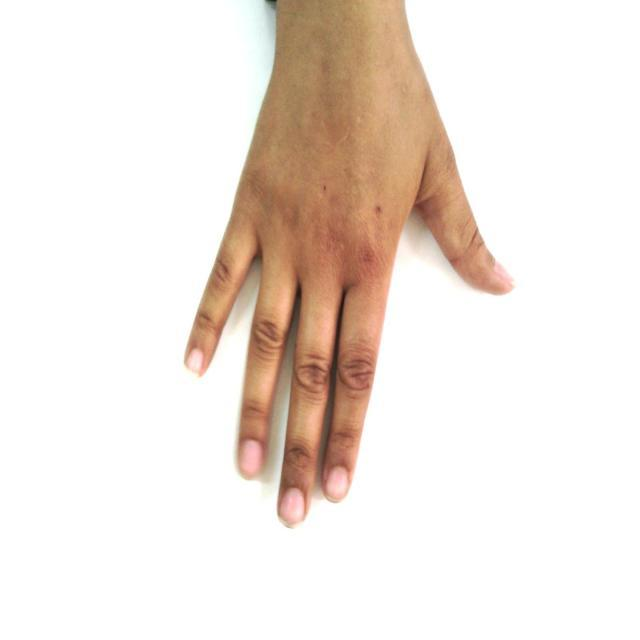Fingernail: (279, 487, 305, 526), (241, 441, 263, 476), (326, 466, 347, 500), (185, 348, 203, 377), (495, 261, 514, 285)
